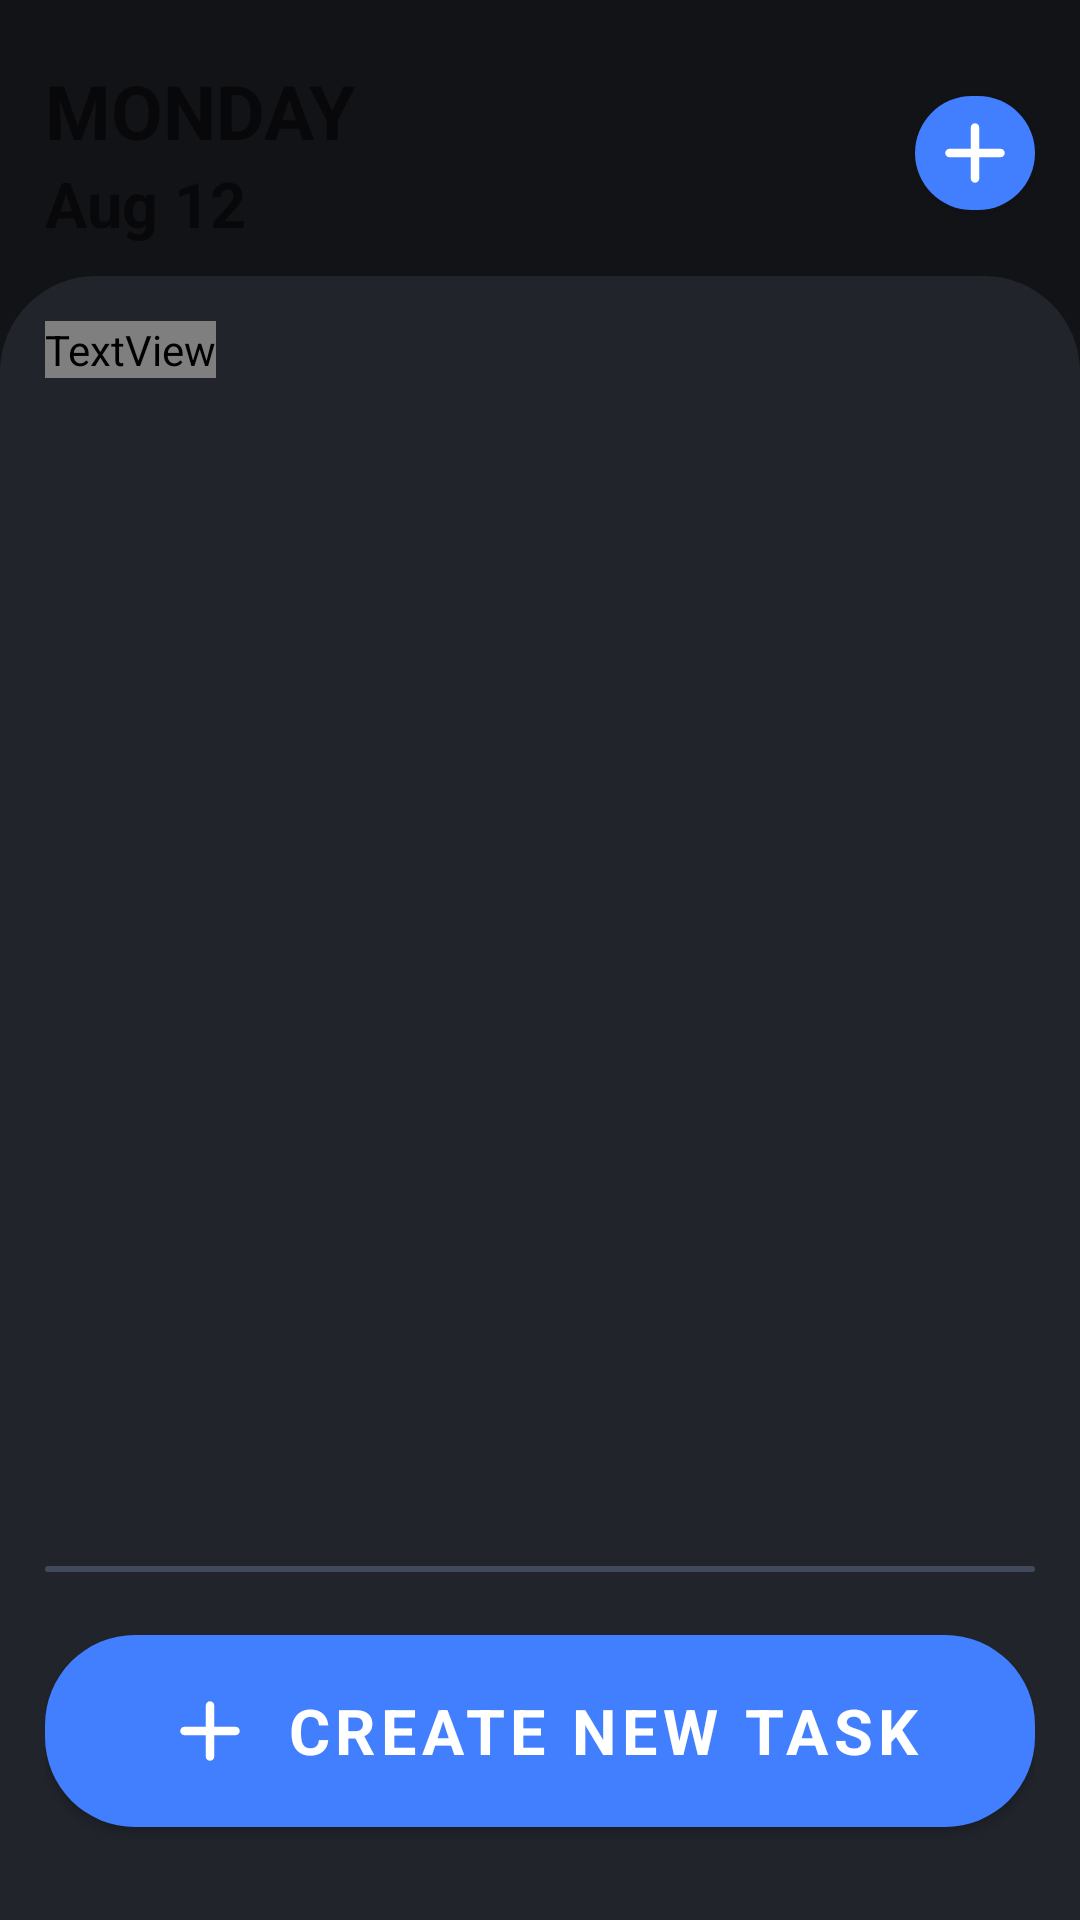

Icon click points for this 1080px x 1920px phone screenshot, format (x,y):
add: (975,153)
